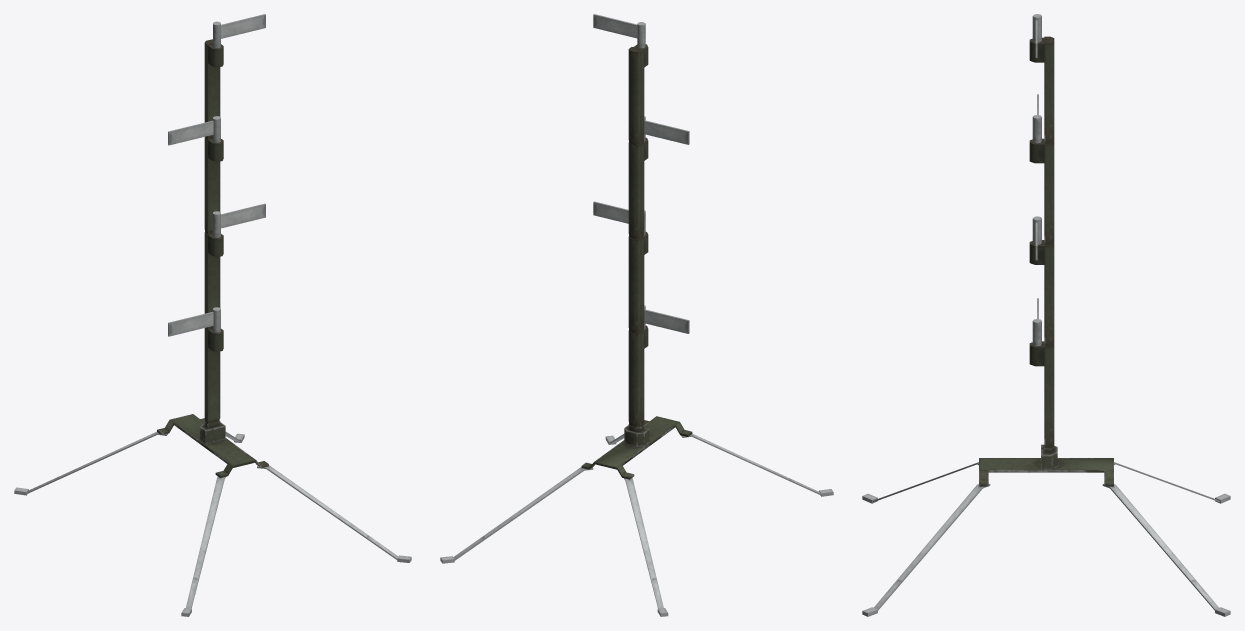
File: TgtTargetStandA1.fbx
The picture shows the model from 3 angles, left to right: view 1: azimuth 30°, elevation 25°; view 2: azimuth 150°, elevation 25°; view 3: azimuth 270°, elevation 25°; orthographic projection. The views are drawn at different scales.
Visible parts, largest first — view 1: TgtTargetStandA1, TgtTargetStandA1ArmA4, TgtTargetStandA1ArmA3, TgtTargetStandA1ArmA2, TgtTargetStandA1ArmA1; view 2: TgtTargetStandA1, TgtTargetStandA1ArmA4, TgtTargetStandA1ArmA3, TgtTargetStandA1ArmA1, TgtTargetStandA1ArmA2; view 3: TgtTargetStandA1.
Part boxes in pixels (box(x1,y1,x2,y2)): TgtTargetStandA1: box(14, 39, 411, 616); TgtTargetStandA1ArmA4: box(213, 14, 265, 48); TgtTargetStandA1ArmA3: box(168, 116, 220, 145); TgtTargetStandA1ArmA2: box(213, 203, 265, 237); TgtTargetStandA1ArmA1: box(168, 307, 220, 336); TgtTargetStandA1: box(440, 44, 833, 616); TgtTargetStandA1ArmA4: box(593, 14, 645, 48); TgtTargetStandA1ArmA3: box(644, 116, 689, 144); TgtTargetStandA1ArmA1: box(644, 305, 689, 333); TgtTargetStandA1ArmA2: box(593, 201, 645, 235); TgtTargetStandA1: box(862, 36, 1230, 616).
Bounding box in the file's own units: 51.53 × 108 × 66.86.
1 material, 1 textured.
